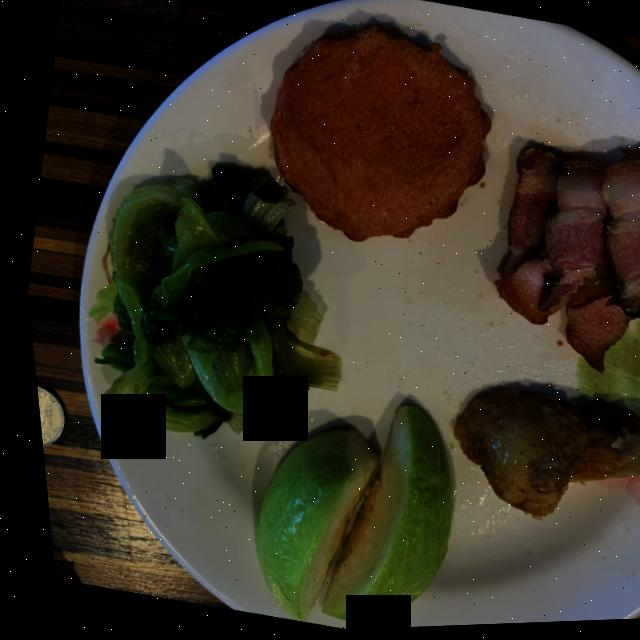Spam: (267, 26, 487, 243)
coin: (29, 385, 56, 445)
fried potato: (445, 391, 640, 521)
grilled pork: (489, 151, 640, 374)
guava -sliced-: (244, 407, 442, 624)
mustard greens: (83, 166, 332, 437)
